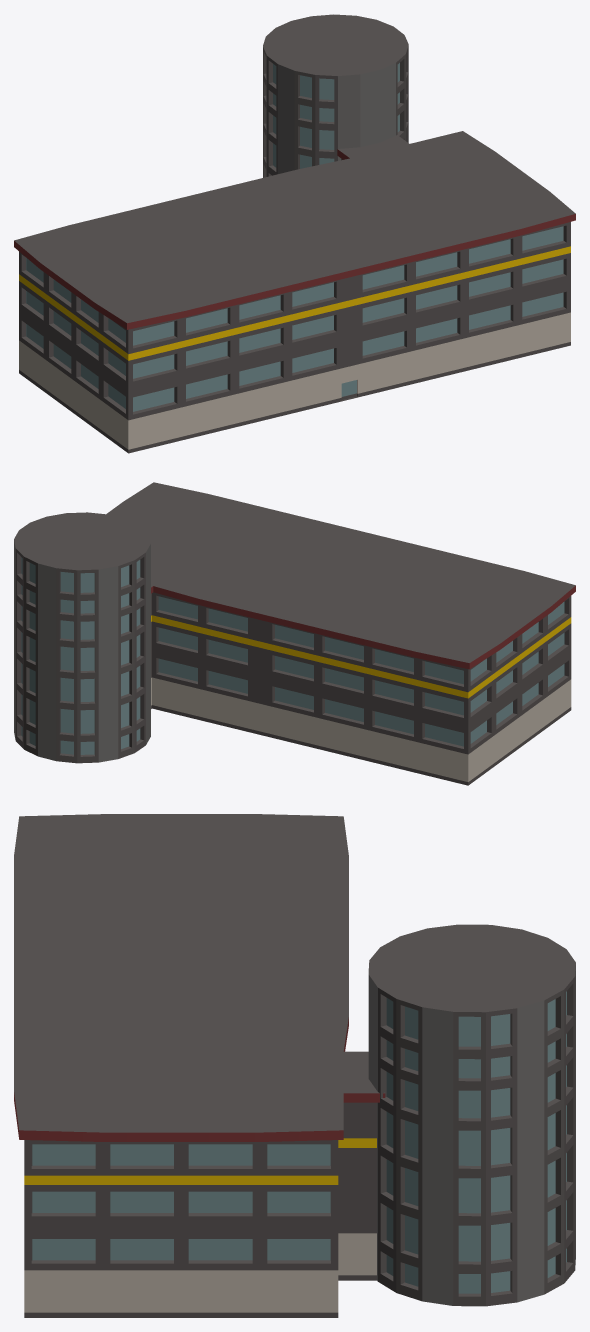
The model's file is Depot_Office_S2.fbx.
3 renders of one model, top to bottom at view 1: azimuth 30°, elevation 25°; view 2: azimuth 150°, elevation 25°; view 3: azimuth 270°, elevation 25°, orthographic. The views are drawn at different scales.
Visible parts, largest first — view 1: Depot_Office, High_Office; view 2: Depot_Office, High_Office; view 3: Depot_Office, High_Office.
Boxes of the visible parts, x1,y1,x2,y2 form: Depot_Office: (14, 131, 575, 453); High_Office: (263, 14, 408, 177); Depot_Office: (106, 482, 575, 785); High_Office: (14, 512, 150, 763); Depot_Office: (14, 814, 385, 1317); High_Office: (368, 924, 575, 1306).
Bounding box in the file's own units: 7200 × 3101 × 5369.
